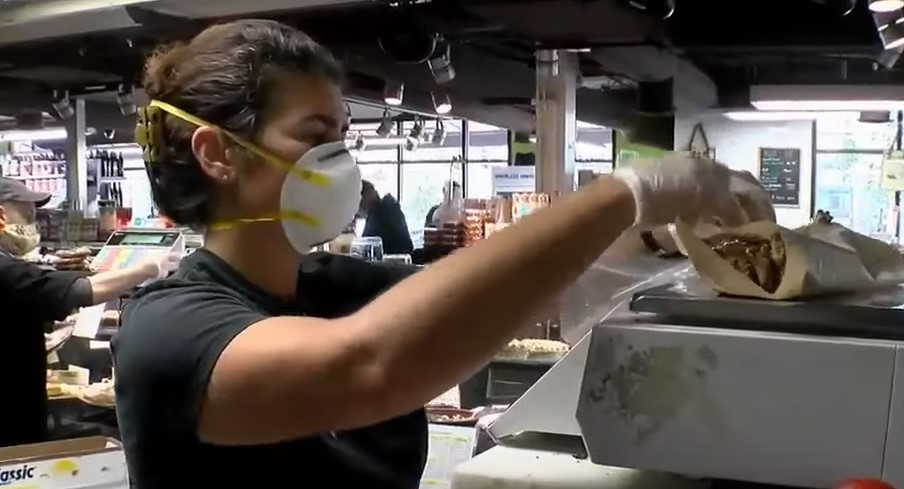face_with_mask: (150, 26, 362, 258), (1, 175, 46, 254)
